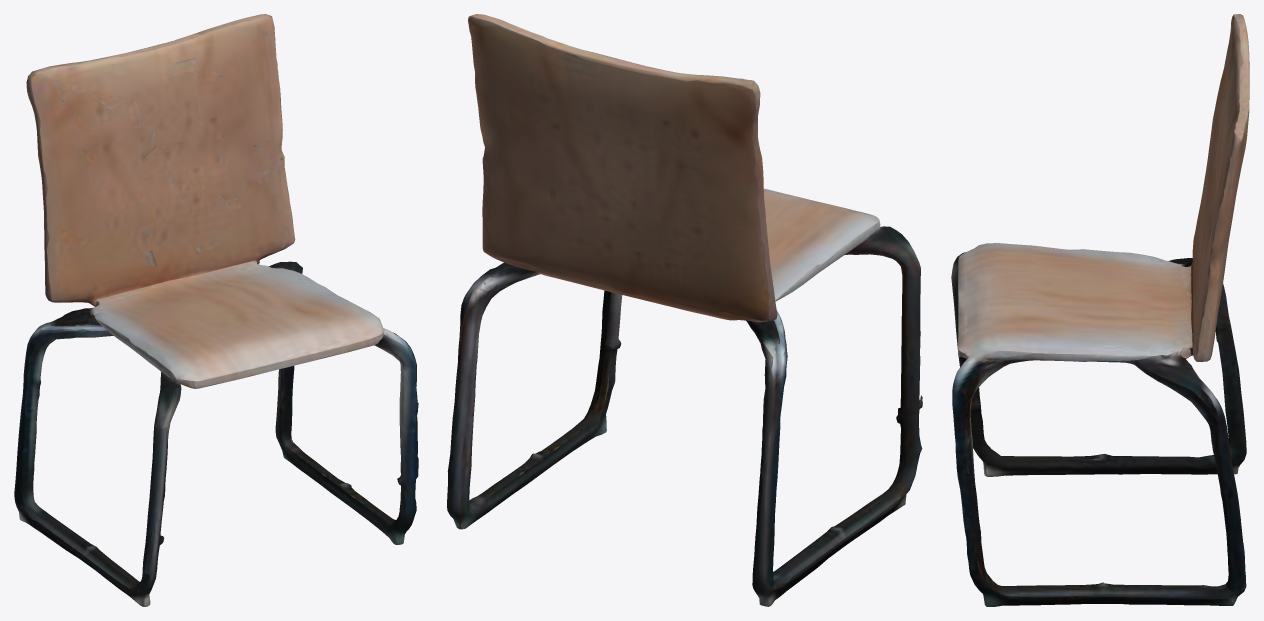
3 views of the same model, side by side, from view 1: azimuth 30°, elevation 25°; view 2: azimuth 150°, elevation 25°; view 3: azimuth 270°, elevation 25° (orthographic). The views are drawn at different scales.
Parts seen in each view (by area): view 1: world; view 2: world; view 3: world.
Boxes of the visible parts, x1,y1,x2,y2 form: world: (14, 14, 418, 606); world: (447, 14, 922, 606); world: (951, 14, 1249, 606).
Size of the model in its own units: 0.2813 by 0.4374 by 0.2538.
Materials: 1 (1 with a texture image).
